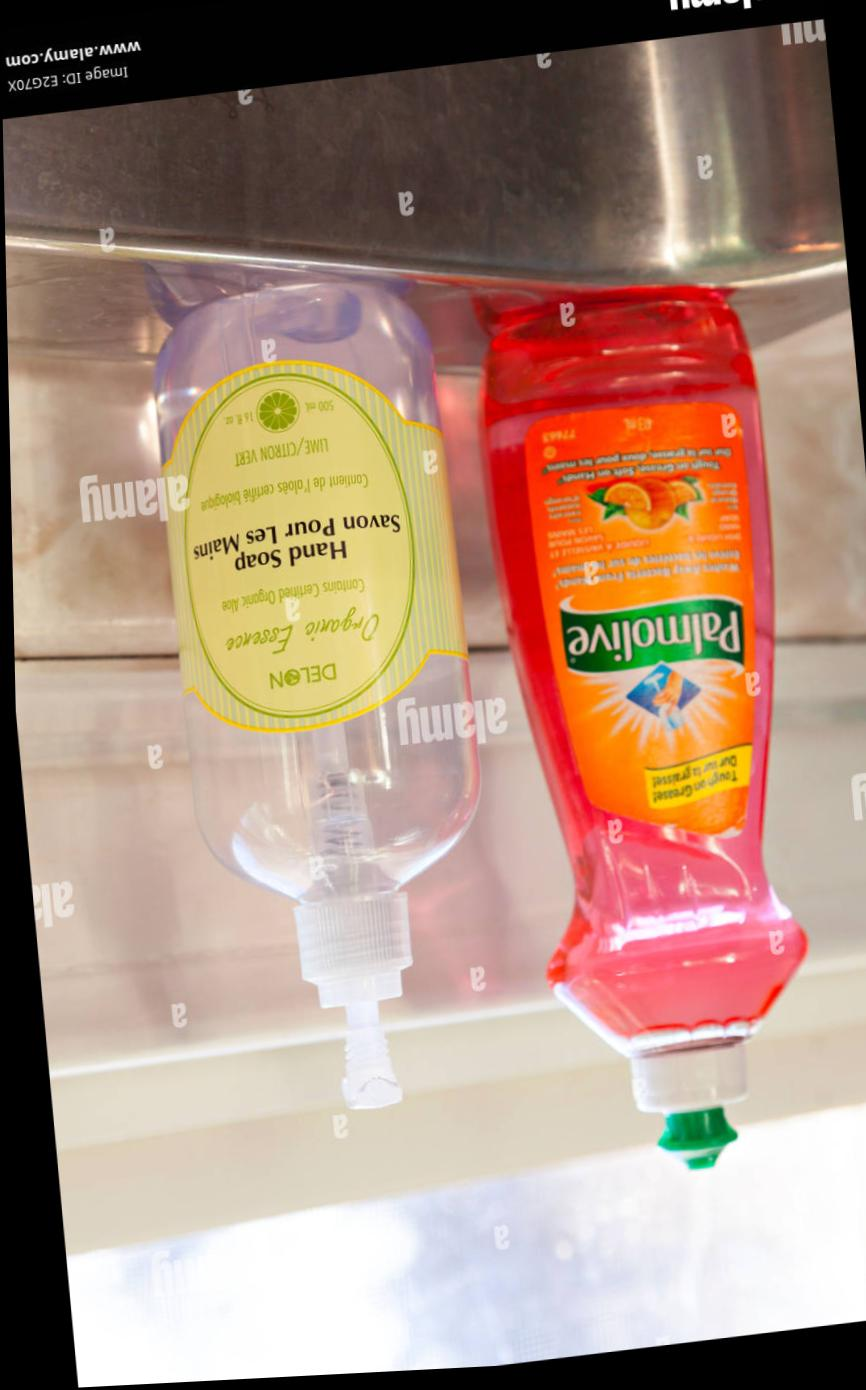plastic: (478, 286, 852, 1167), (149, 269, 480, 1108)
